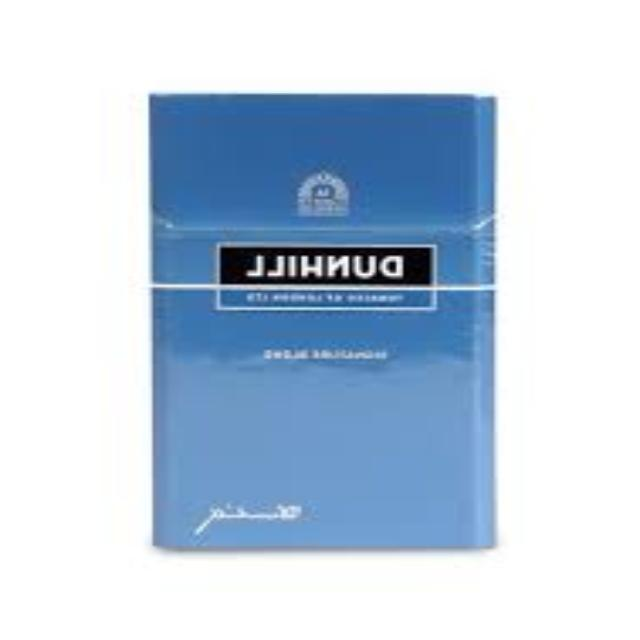dunhill: (143, 91, 501, 560)
